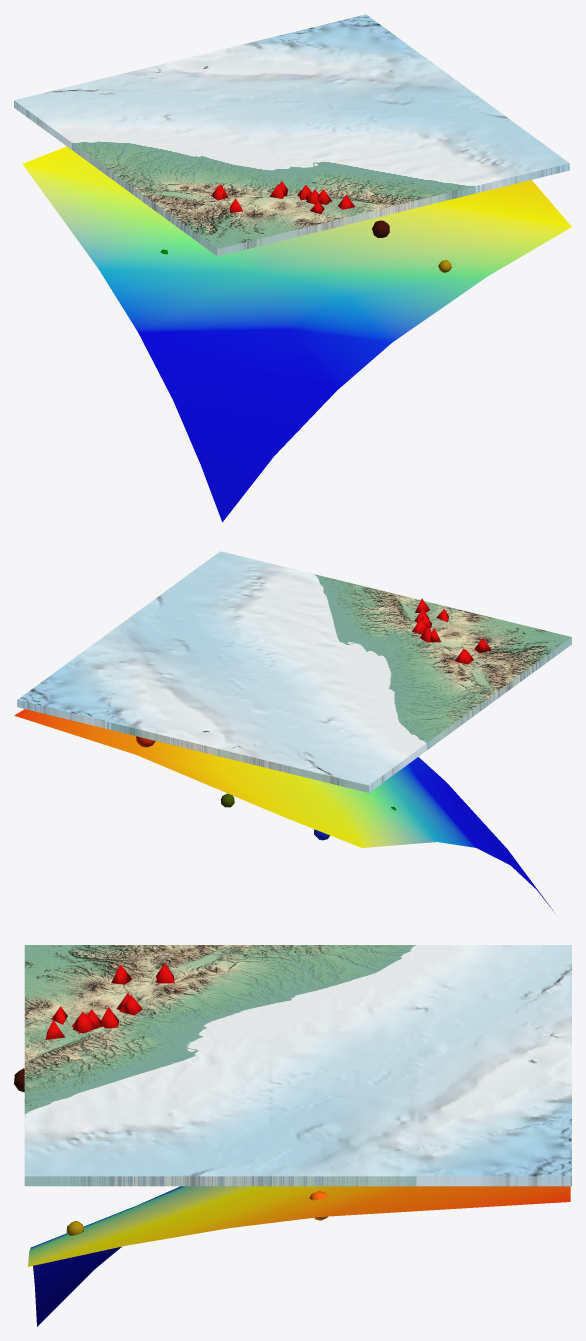
The model's file is earth.glb.
The picture shows the model from 3 angles, top to bottom: view 1: azimuth 30°, elevation 25°; view 2: azimuth 150°, elevation 25°; view 3: azimuth 270°, elevation 25°; orthographic projection. The views are drawn at different scales.
Parts seen in each view (by area): view 1: Plane, Object_30, Object_17; view 2: Plane, Object_30, Object_17; view 3: Plane, Object_30, Object_17.
Boxes of the visible parts, x1,y1,x2,y2 form: Plane: [14, 14, 569, 256]; Object_30: [22, 146, 571, 522]; Object_17: [211, 181, 355, 214]; Plane: [17, 551, 571, 792]; Object_30: [14, 709, 554, 912]; Object_17: [412, 598, 491, 664]; Plane: [24, 945, 571, 1186]; Object_30: [28, 1186, 570, 1326]; Object_17: [45, 963, 174, 1039].
Bounding box in the file's own units: 5.51 × 4.33 × 5.55.
Materials: 6 (1 with a texture image).
